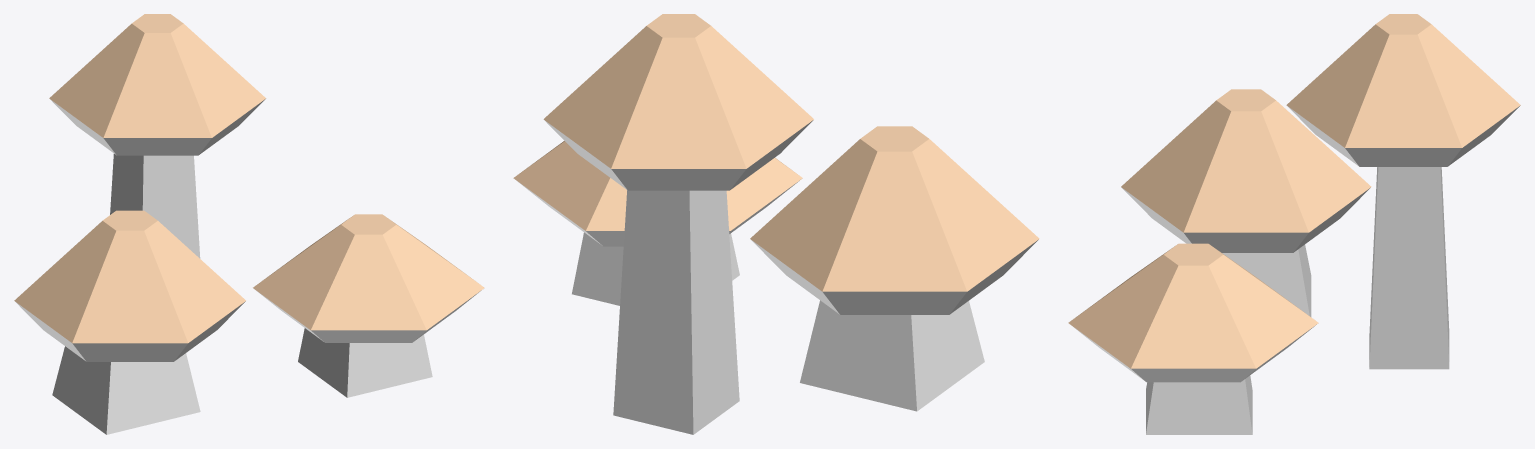
Rendered from mushroom_brownGroup.glb.
3 views of the same model, side by side, from view 1: azimuth 30°, elevation 25°; view 2: azimuth 150°, elevation 25°; view 3: azimuth 270°, elevation 25° (orthographic). The views are drawn at different scales.
Visible parts, largest first — view 1: mushroom_brownGroup; view 2: mushroom_brownGroup; view 3: mushroom_brownGroup.
Part boxes in pixels (x1,y1,x2,y2): mushroom_brownGroup: (14, 14, 484, 434); mushroom_brownGroup: (513, 14, 1039, 434); mushroom_brownGroup: (1068, 14, 1520, 434).
Bounding box in the file's own units: 0.2944 × 0.2205 × 0.2753.
